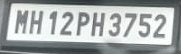character: (29, 9, 43, 35), (123, 12, 137, 37), (76, 10, 89, 36), (91, 11, 104, 37), (138, 12, 151, 38), (14, 9, 28, 33), (152, 14, 166, 38), (59, 11, 73, 34), (108, 12, 121, 36), (48, 9, 58, 34)
